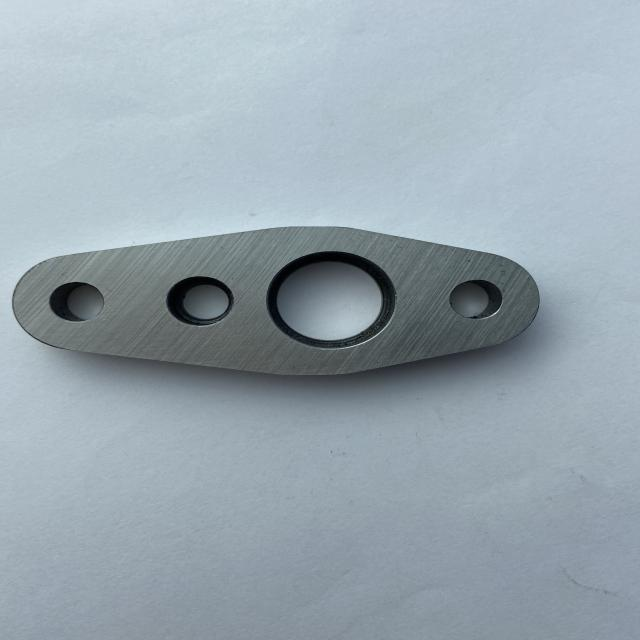chap: (362, 239, 405, 256), (390, 319, 396, 325), (101, 318, 108, 322)
lines: (464, 258, 510, 278)
